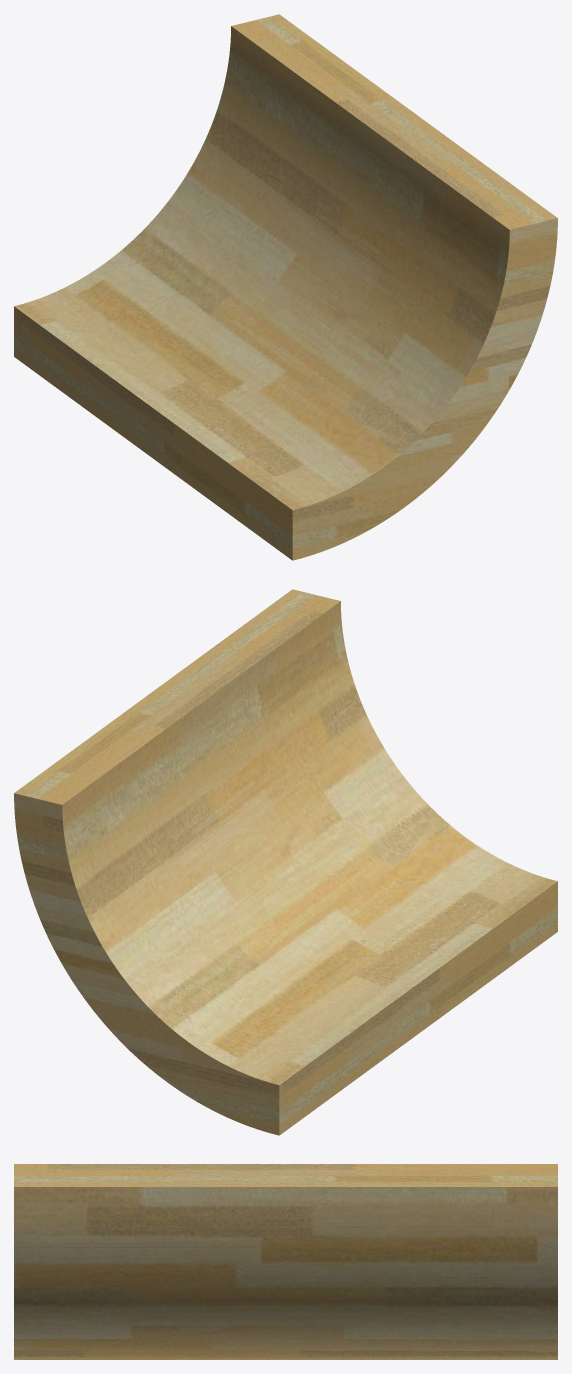
Rendered from Ramp90.dae.
3 views of the same model, one above another, from view 1: azimuth 30°, elevation 25°; view 2: azimuth 150°, elevation 25°; view 3: azimuth 270°, elevation 25° (orthographic). The views are drawn at different scales.
Parts seen in each view (by area): view 1: Component_13 (×2); view 2: Component_13 (×2); view 3: Component_13 (×2).
Boxes of the visible parts, x1=… form: Component_13 (×2): x1=14, y1=14, x2=557, y2=560; Component_13 (×2): x1=14, y1=589, x2=557, y2=1135; Component_13 (×2): x1=14, y1=1164, x2=557, y2=1359.
Bounding box in the file's own units: 21.65 × 39.37 × 21.65.
2 materials, 2 textured.
